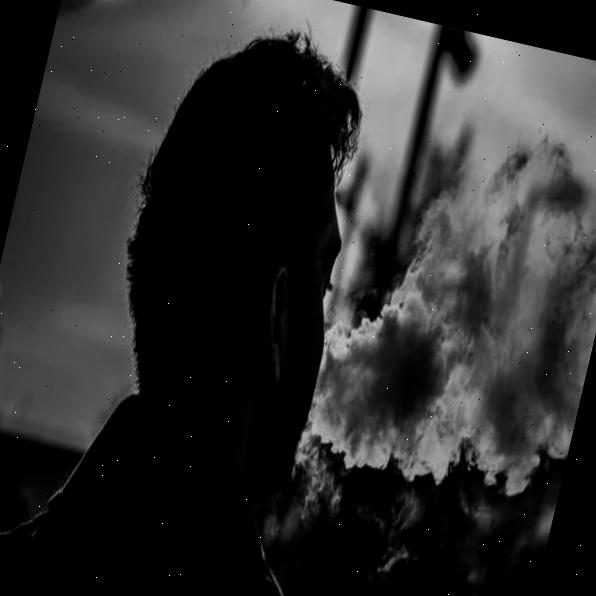smoke: (325, 144, 596, 490)
